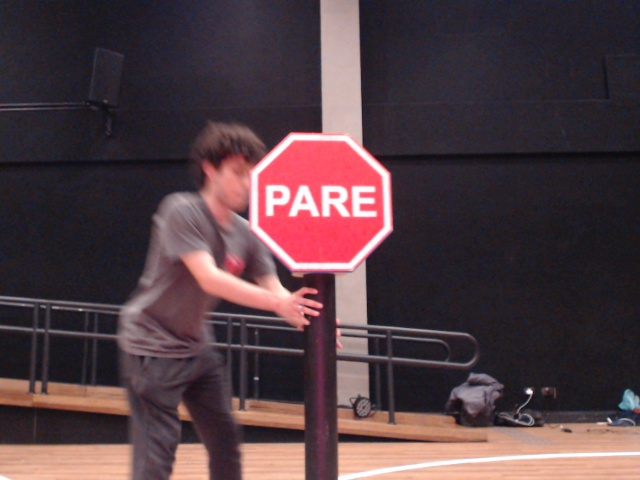SEMAFORO: (191, 100, 462, 349)
